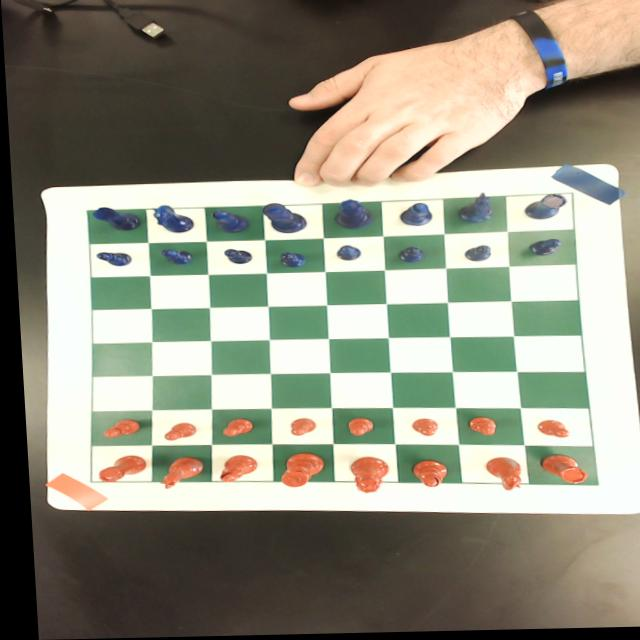B: (209, 211, 246, 235), (394, 204, 429, 228)
K: (258, 204, 304, 235)
N: (148, 205, 192, 234), (451, 195, 492, 225)
P: (153, 248, 189, 267), (91, 251, 128, 268), (525, 240, 557, 259), (219, 248, 250, 266), (458, 247, 489, 264), (391, 248, 422, 265), (275, 253, 303, 269), (331, 246, 357, 262)
Q: (329, 200, 369, 231)
R: (87, 206, 137, 232), (518, 195, 563, 222)
b: (212, 457, 252, 484), (404, 462, 442, 489)
k: (273, 454, 318, 489)
n: (149, 457, 198, 490), (477, 459, 518, 492)
p: (95, 419, 135, 439), (155, 423, 190, 442), (530, 422, 565, 441), (215, 419, 248, 439), (461, 418, 492, 439), (341, 419, 369, 438), (283, 419, 310, 438), (404, 420, 431, 438)
q: (342, 458, 383, 495)
r: (532, 456, 583, 489), (90, 455, 141, 484)
